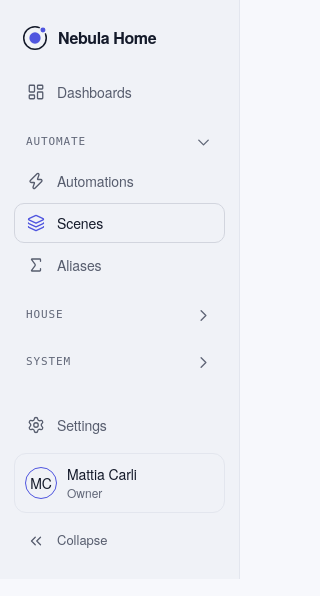
Test: Sidebar › lets the group you are in be closed by hand
Click the button "Automate": (120, 142) 14,125 -> 225,159
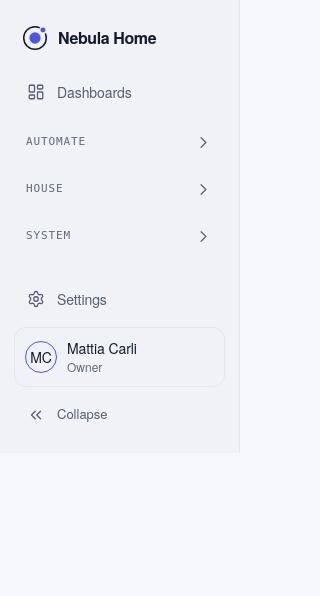
Now the button "Automate" is collapsed, box 14,125 -> 225,159
Now the link "Scenes" is gone
